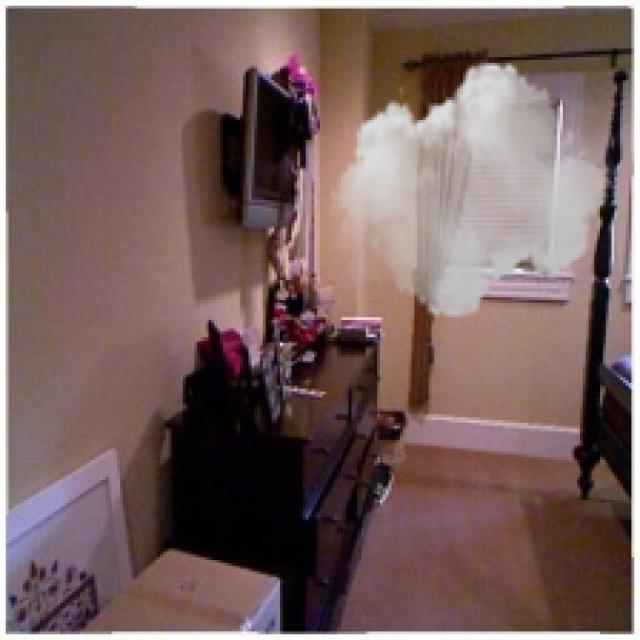Smoke: (332, 52, 614, 328)
